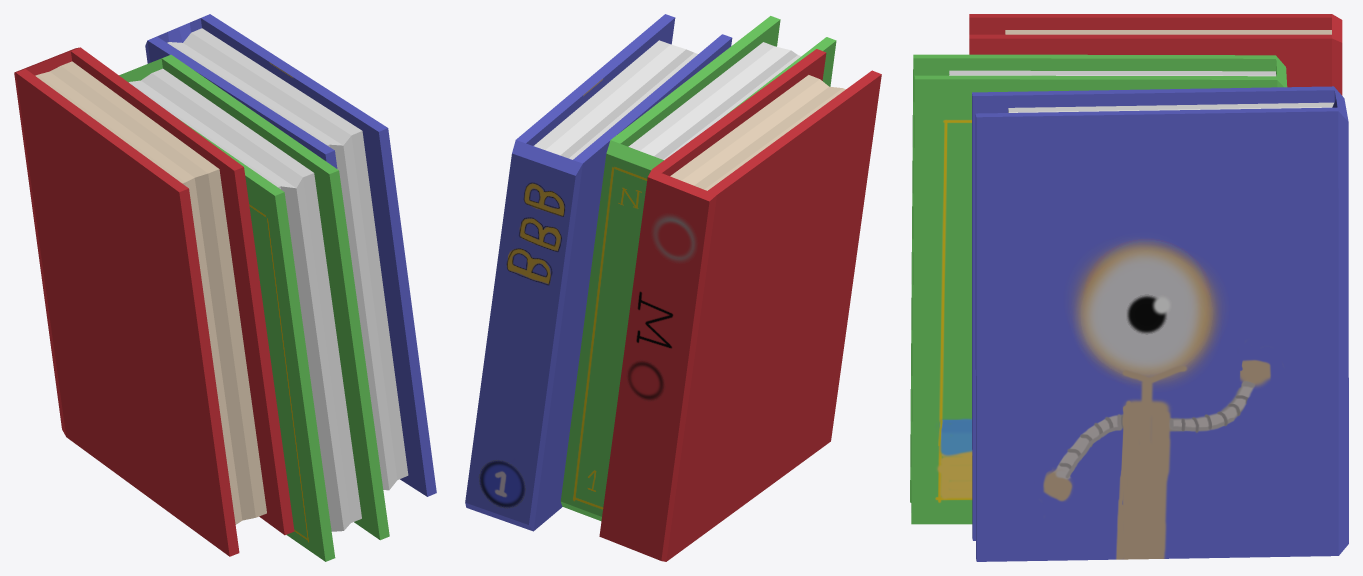
The model's file is 3Livros.fbx.
3 views of the same model, side by side, from view 1: azimuth 30°, elevation 25°; view 2: azimuth 150°, elevation 25°; view 3: azimuth 270°, elevation 25° (orthographic). The views are drawn at different scales.
Visible parts, largest first — view 1: Cube.034, Cube.036, Cube.035; view 2: Cube.034, Cube.035, Cube.036; view 3: Cube.035, Cube.036, Cube.034.
Boxes of the visible parts, x1,y1,x2,y2 form: Cube.034: (14, 47, 294, 556); Cube.036: (119, 54, 389, 561); Cube.035: (145, 14, 436, 496); Cube.034: (599, 49, 881, 561); Cube.035: (465, 14, 732, 531); Cube.036: (560, 16, 836, 521); Cube.035: (972, 86, 1348, 561); Cube.036: (910, 54, 1287, 524); Cube.034: (969, 14, 1342, 95).
Size of the model in its own units: 42.4 by 60.95 by 55.72.
5 materials, 3 textured.
